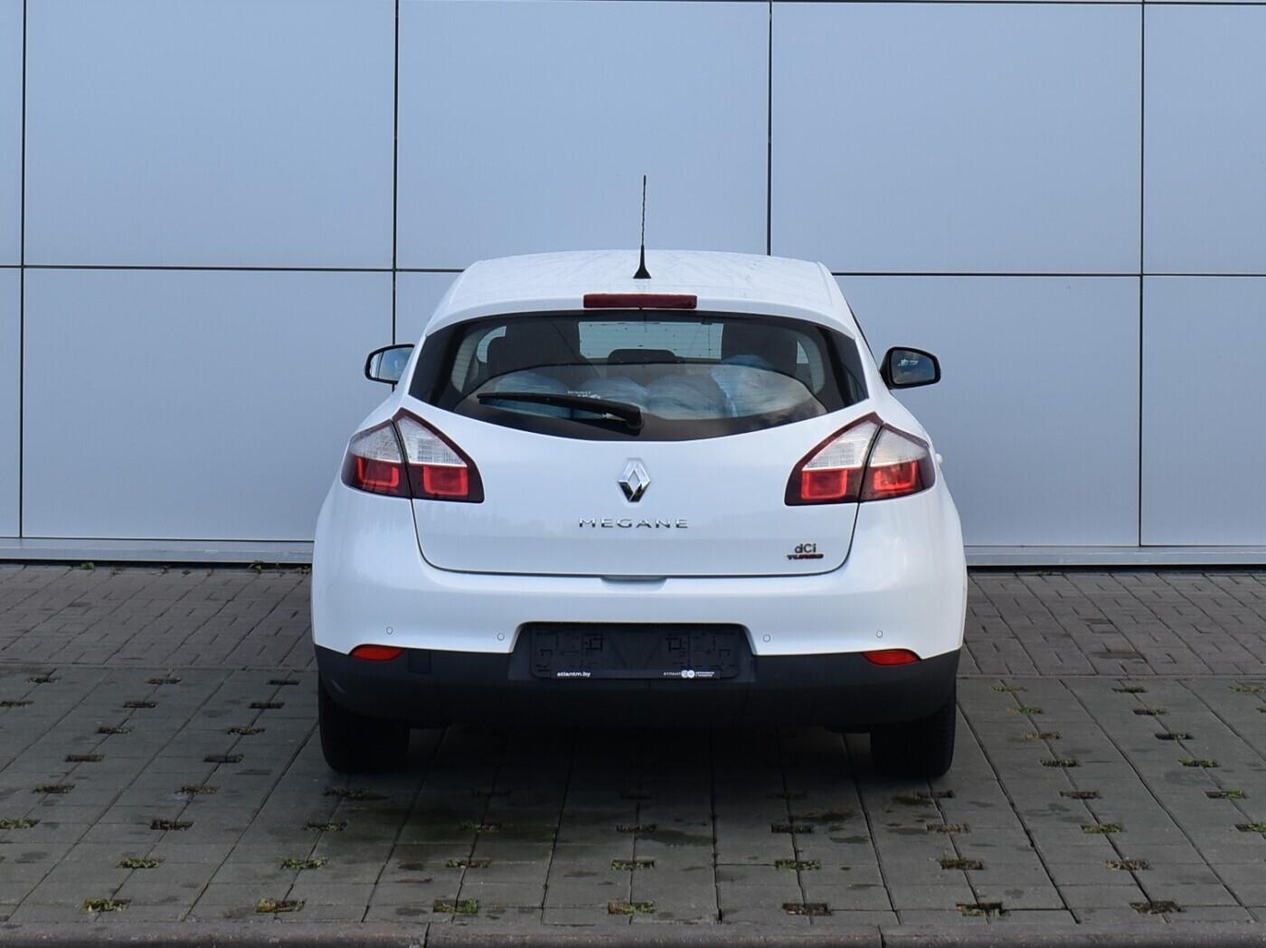Megane_2014-2016: (306, 243, 978, 766)
